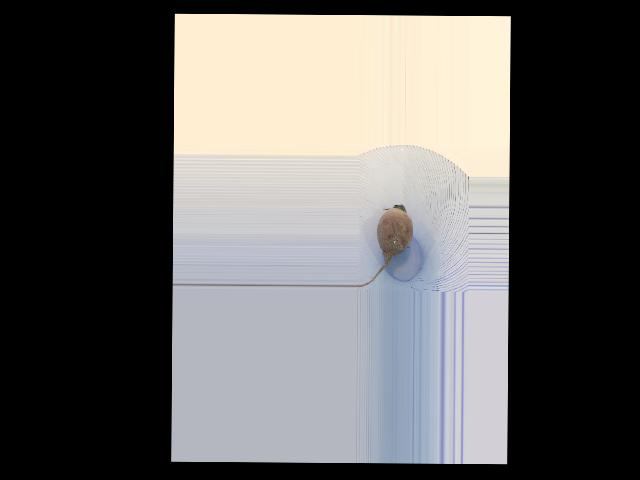beet: (356, 203, 413, 286)
